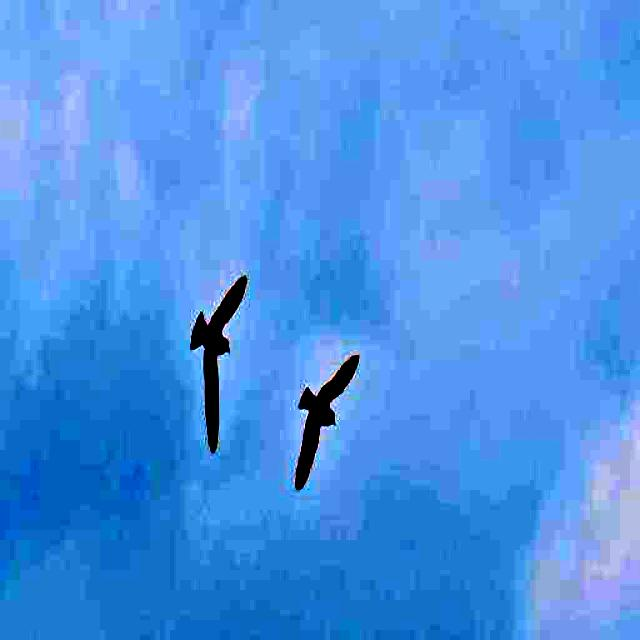airplane: (291, 318, 358, 518), (186, 258, 250, 450)
